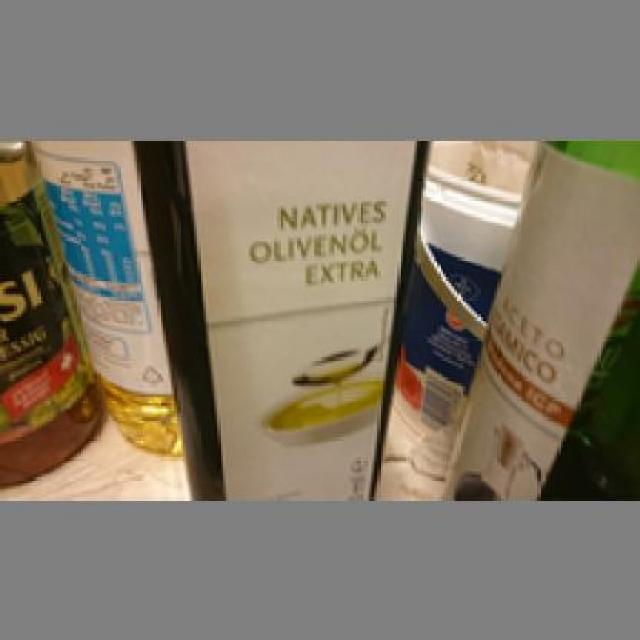Oil: (128, 140, 426, 494)
